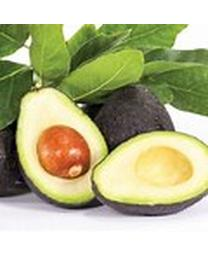avocado: (13, 84, 110, 209), (90, 128, 207, 218)
